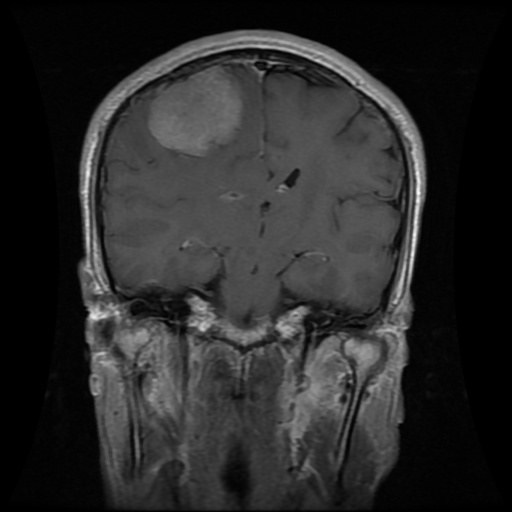meningioma: (148, 65, 244, 157)
